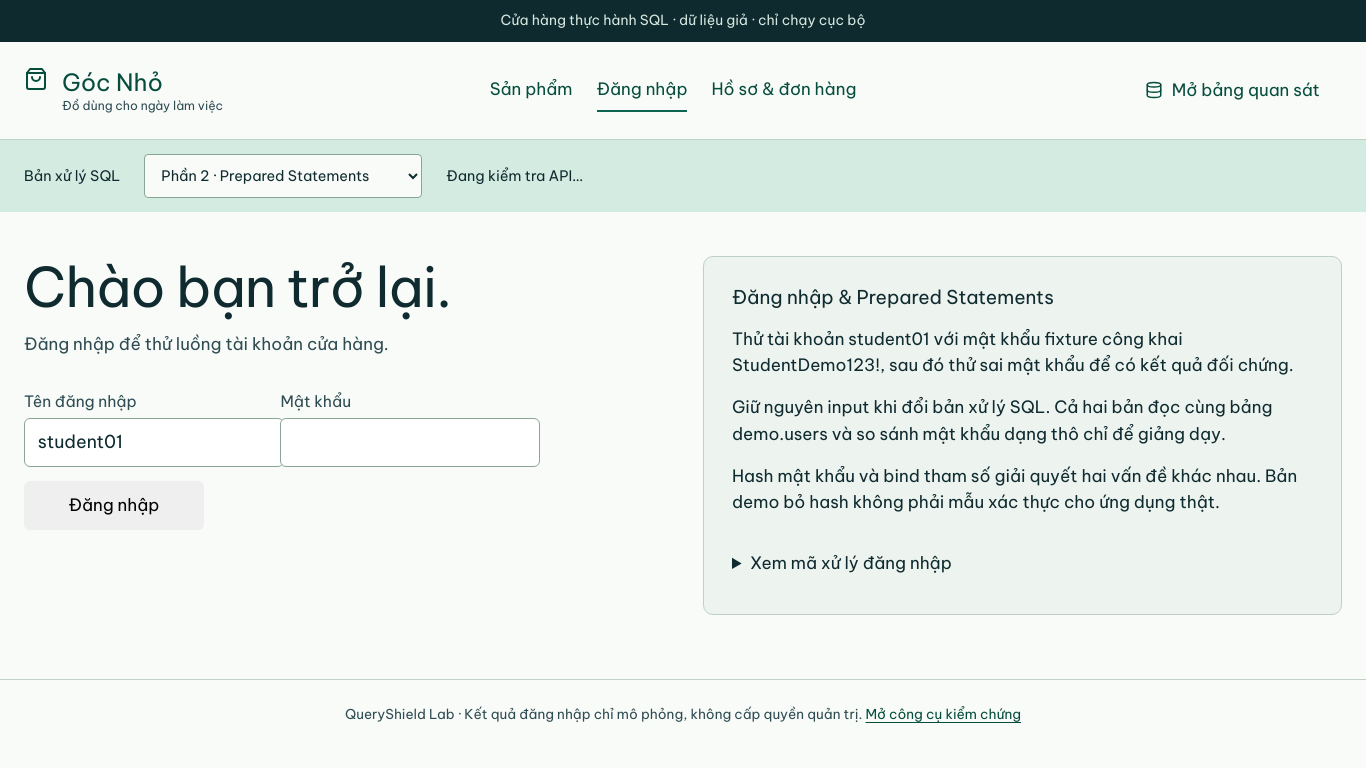
Scenario: Shop forms › shows an API failure without inventing a successful login
Type "probe" into the password field labelled "Mật khẩu" at (410, 442), box [280,418,540,467]
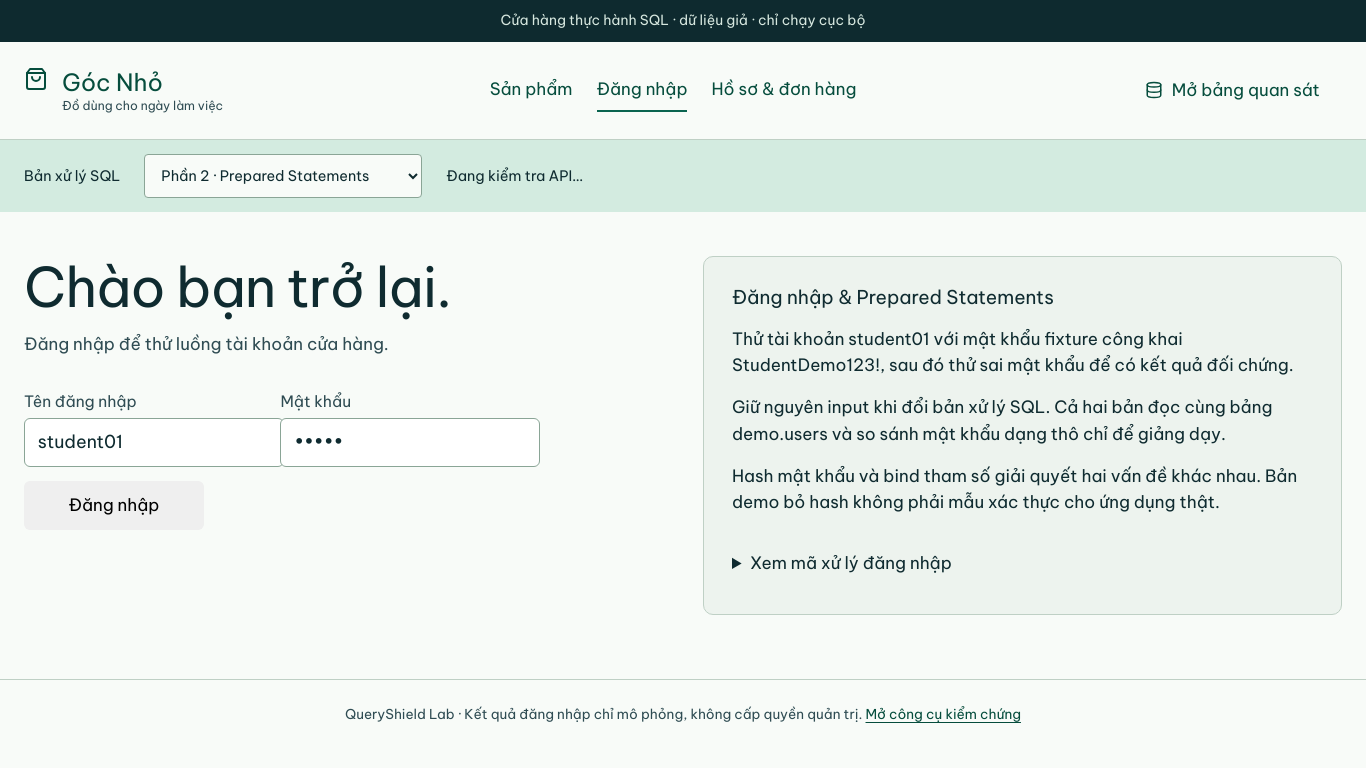
Click the button "Đăng nhập" at (114, 505), box [24,481,204,530]
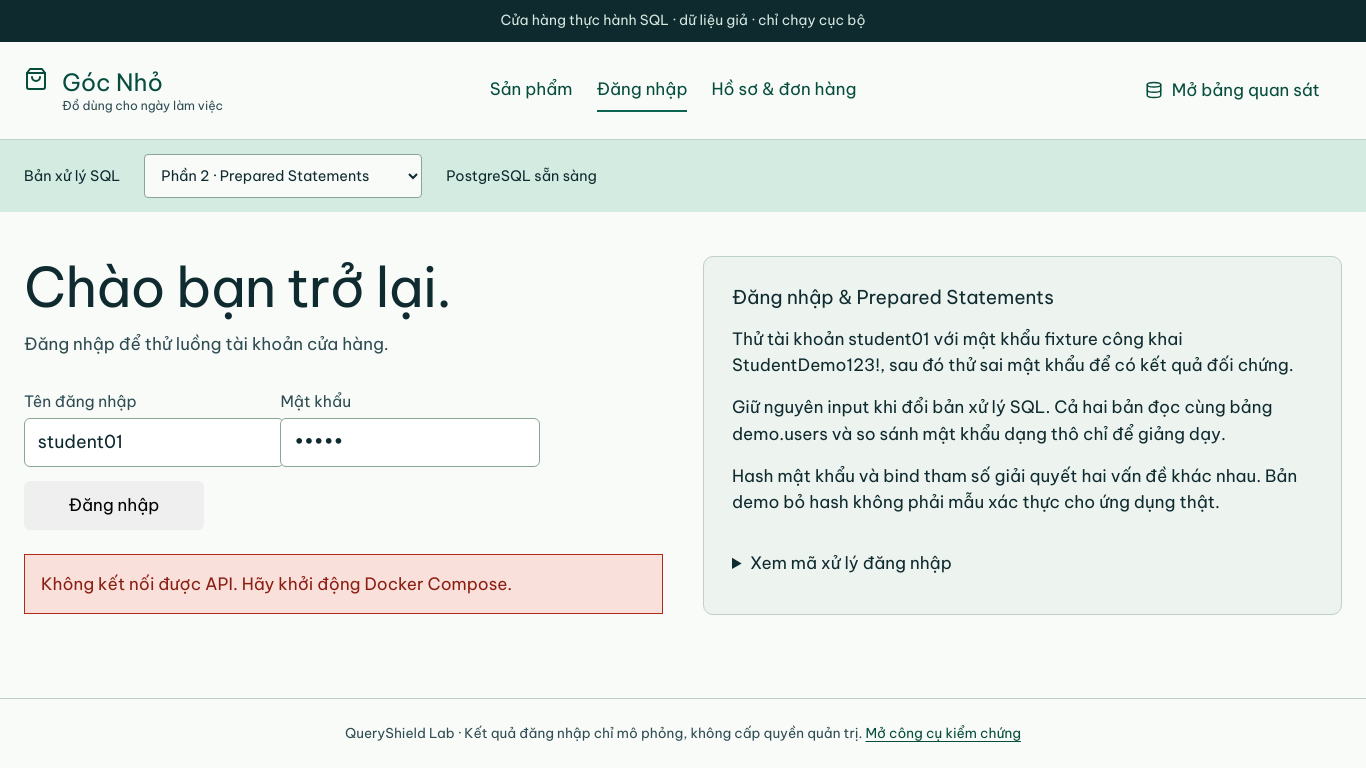
Expected: the message shows "Không kết nối được API", [41,573,512,595]
